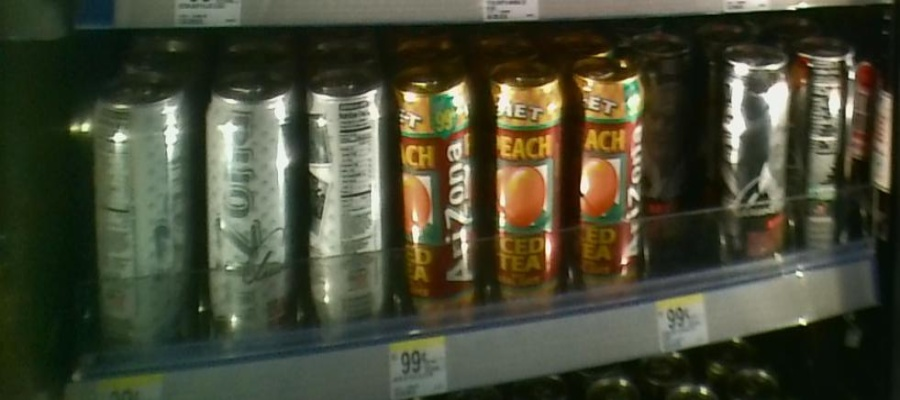bottle: (88, 72, 193, 355), (198, 66, 297, 352), (480, 47, 568, 315), (301, 65, 386, 340), (396, 64, 480, 330), (572, 46, 650, 304), (712, 35, 790, 279), (795, 37, 863, 258)
